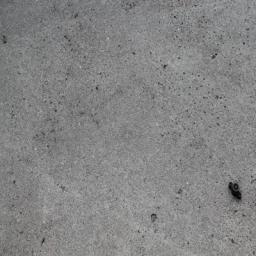FOD: (228, 181, 246, 202)
